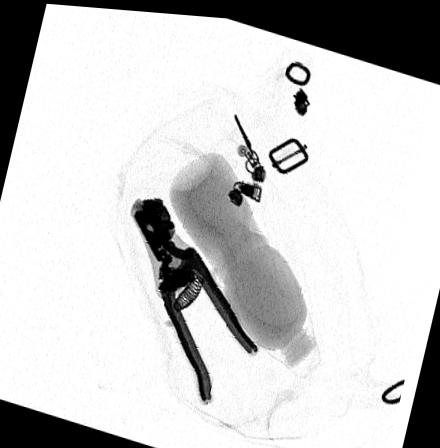Pliers: (133, 193, 258, 400)
